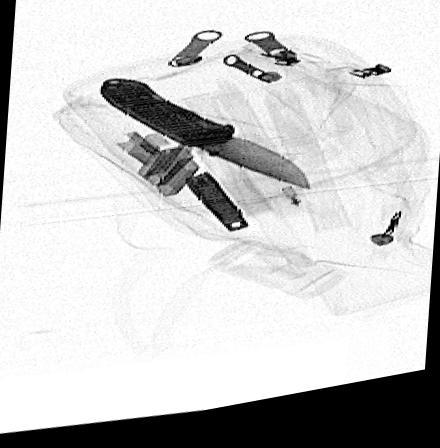Knife: (98, 80, 312, 202)
